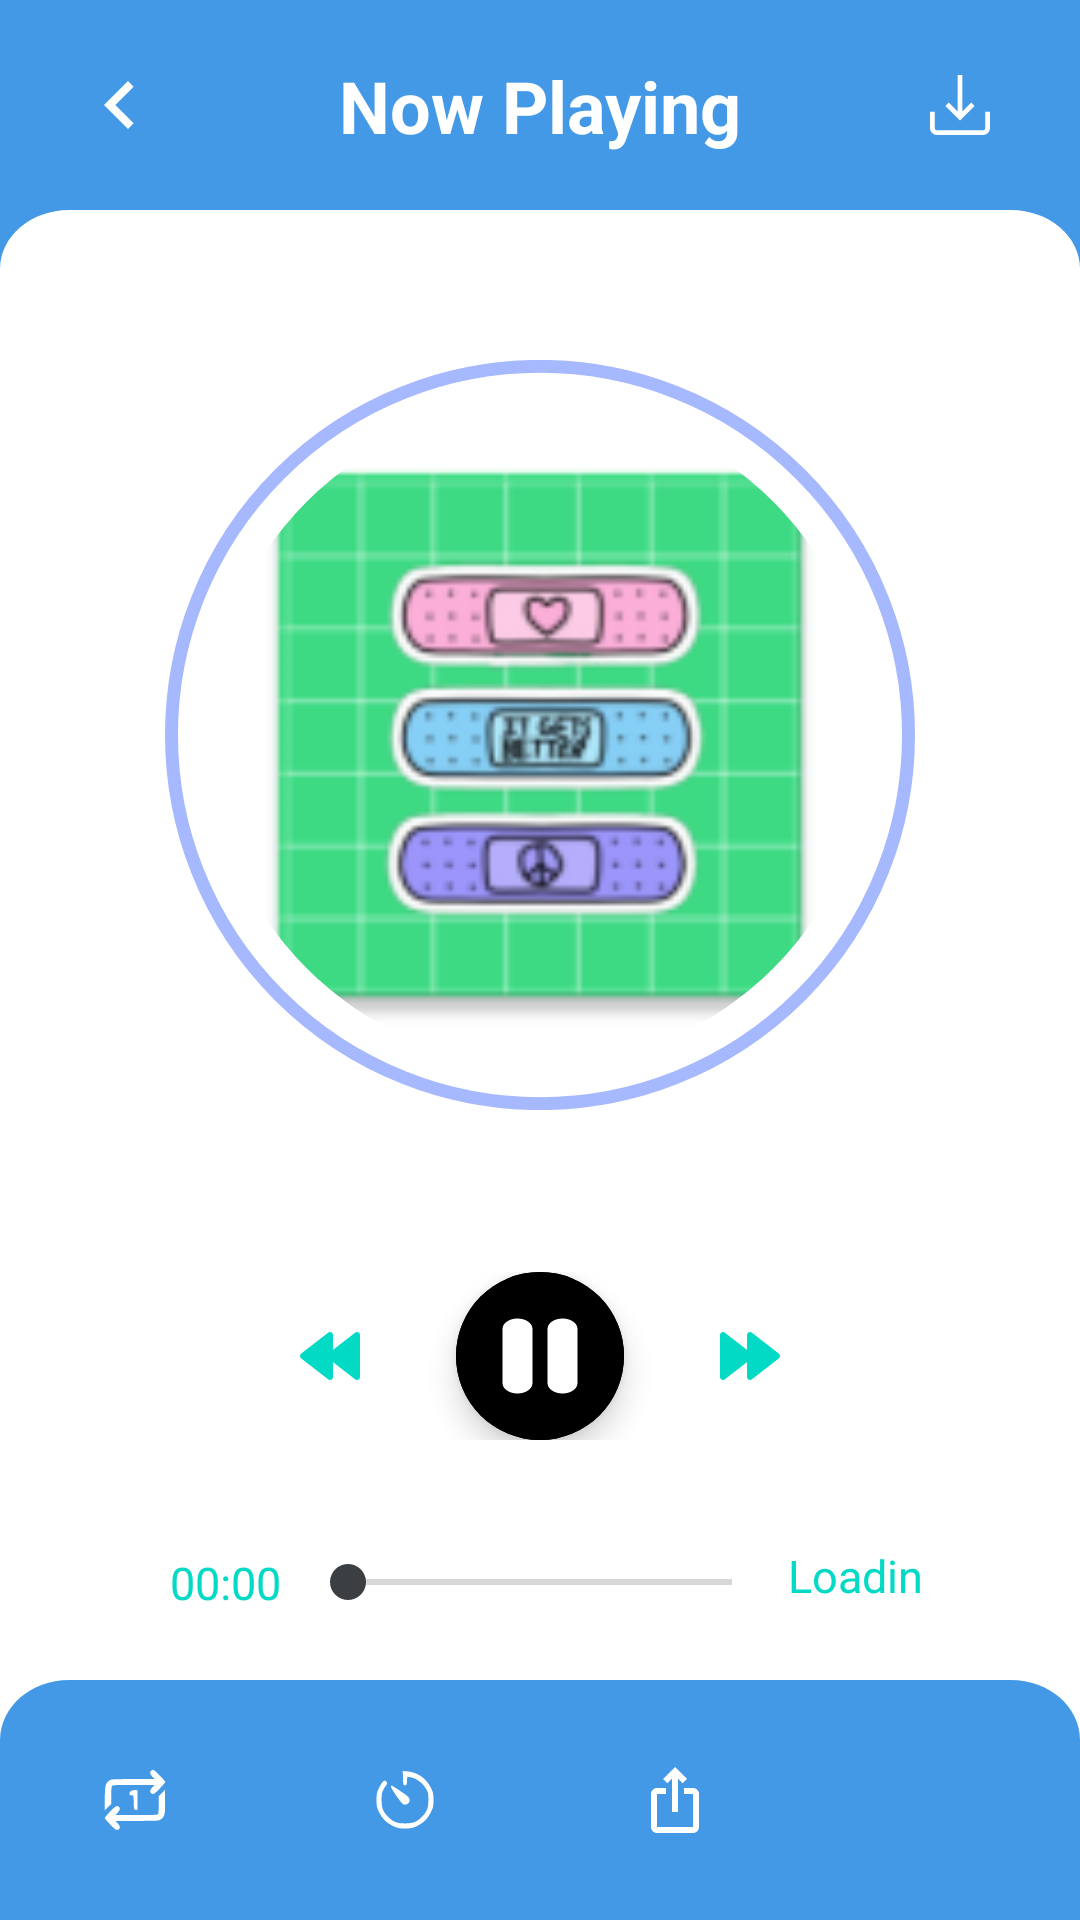

Screen size 1080 x 1920. Icon name, then its center in pixels as (x=x, y=y):
Back: (x=119, y=105)
download: (x=960, y=105)
next: (x=750, y=1356)
pause: (x=540, y=1356)
previous: (x=330, y=1356)
Share: (x=675, y=1800)
Timer: (x=405, y=1800)
